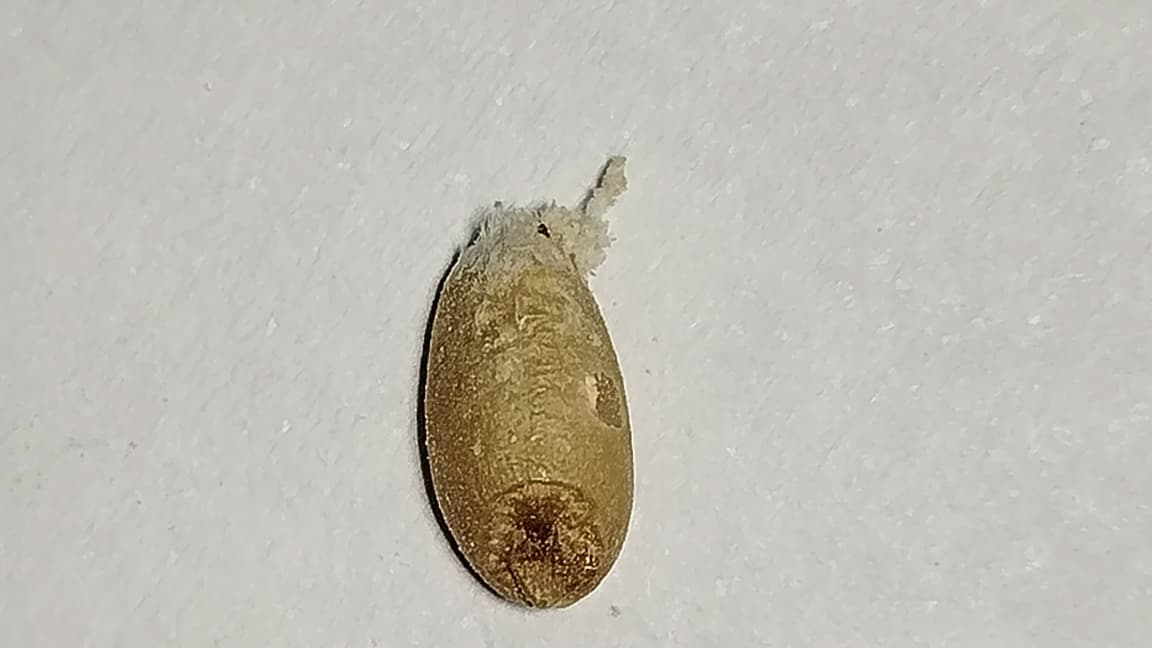damage: (409, 156, 645, 608)
insectdamage: (561, 367, 645, 438)
molddamage: (458, 158, 627, 275)
staindamage: (457, 461, 639, 607)
